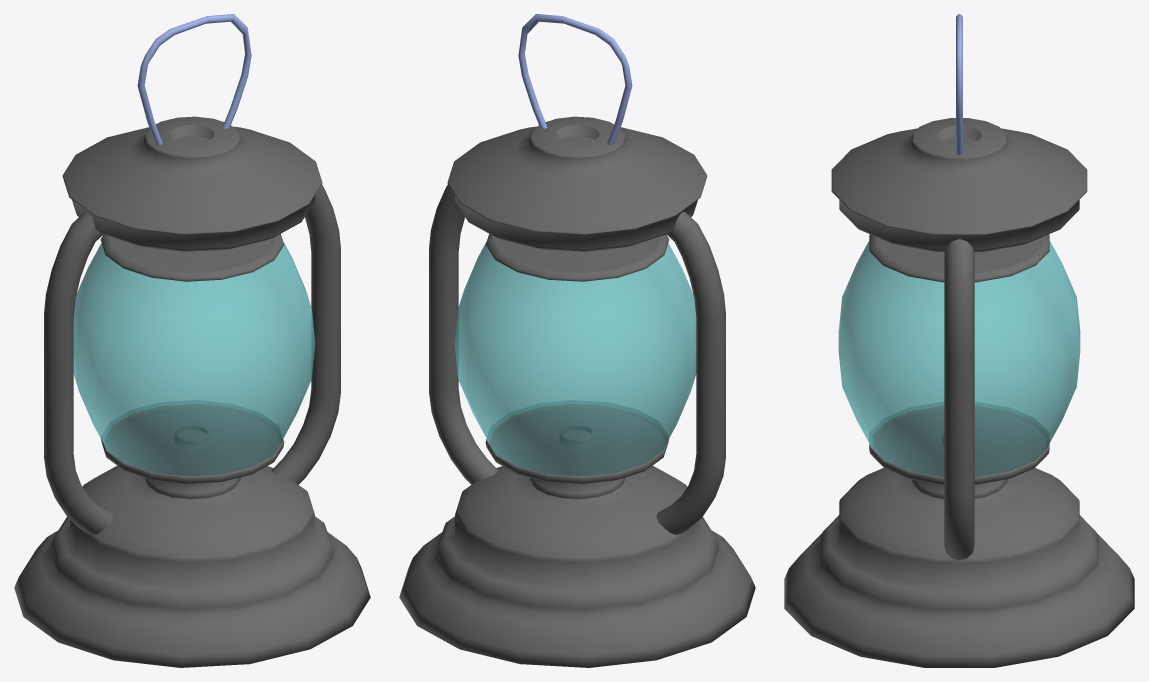
The model's file is Lantern.fbx.
The picture shows the model from 3 angles, left to right: view 1: azimuth 30°, elevation 25°; view 2: azimuth 150°, elevation 25°; view 3: azimuth 270°, elevation 25°; orthographic projection.
Visible parts, largest first — view 1: Cylinder, Plane; view 2: Cylinder, Plane; view 3: Cylinder, Plane.
Part boxes in pixels (bbox=[...]): Cylinder: bbox=[14, 116, 370, 667]; Plane: bbox=[137, 14, 251, 145]; Cylinder: bbox=[399, 116, 755, 667]; Plane: bbox=[518, 14, 632, 145]; Cylinder: bbox=[784, 118, 1134, 667]; Plane: bbox=[956, 14, 962, 154].
Bounding box in the file's own units: 160 × 288 × 160.
